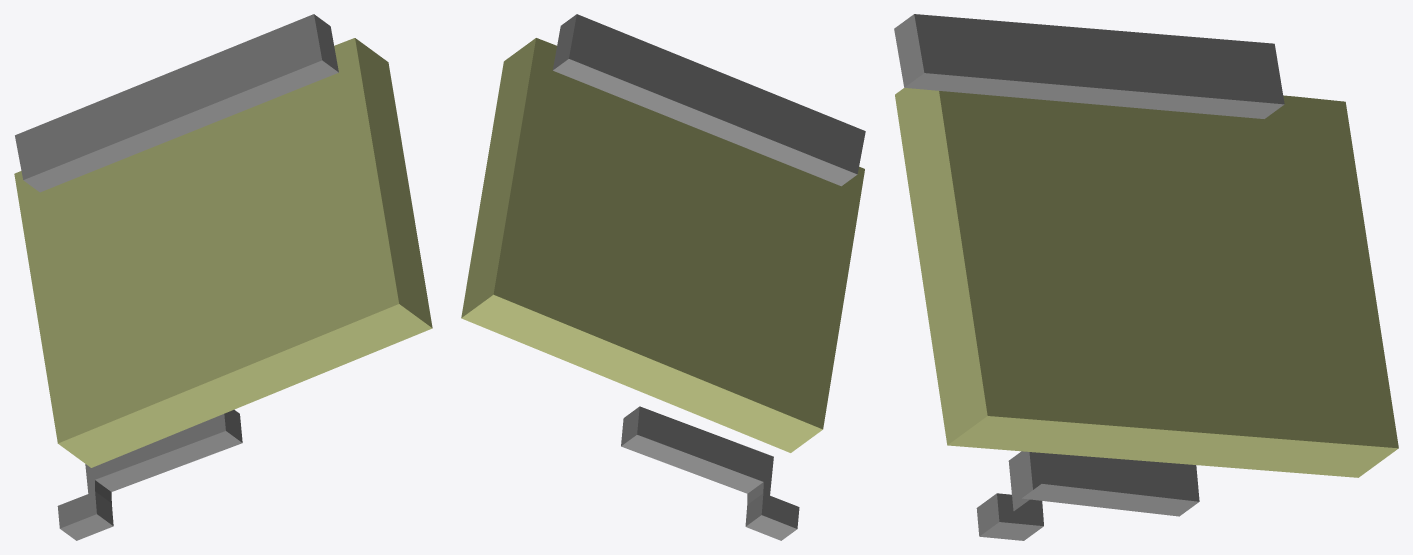
3 renders of one model, left to right at view 1: azimuth 30°, elevation 25°; view 2: azimuth 150°, elevation 25°; view 3: azimuth 330°, elevation 25°, orthographic. The views are drawn at different scales.
Visible parts, largest first — view 1: 0_1_2_0_3_1_2_0_0; view 2: 0_1_2_0_3_1_2_0_0; view 3: 0_1_2_0_3_1_2_0_0.
Part boxes in pixels (<box>): 0_1_2_0_3_1_2_0_0: <box>14,14,432,540</box>; 0_1_2_0_3_1_2_0_0: <box>461,14,865,540</box>; 0_1_2_0_3_1_2_0_0: <box>894,14,1398,540</box>.
Size of the model in its own units: 40.67 by 45.97 by 6.7.
